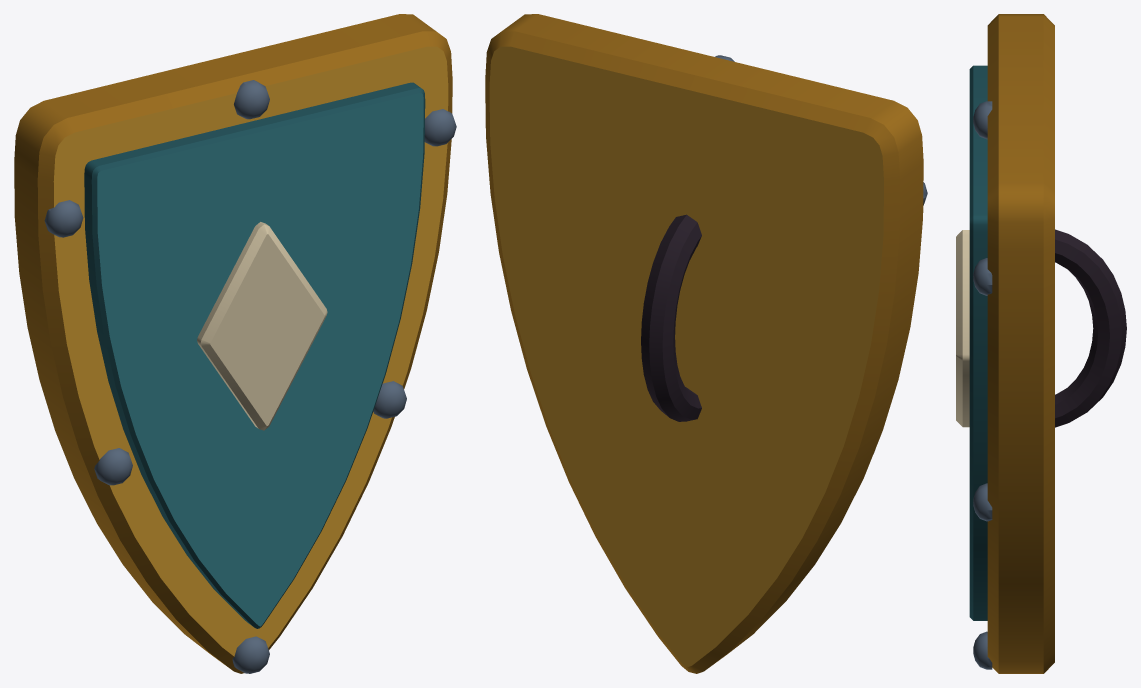
File: HeaterShield_21.glb
The picture shows the model from 3 angles, left to right: view 1: azimuth 30°, elevation 25°; view 2: azimuth 150°, elevation 25°; view 3: azimuth 270°, elevation 25°; orthographic projection. The views are drawn at different scales.
Parts seen in each view (by area): view 1: HeaterShield_21; view 2: HeaterShield_21; view 3: HeaterShield_21.
Boxes of the visible parts, bbox=[...] form: HeaterShield_21: bbox=[14, 14, 456, 673]; HeaterShield_21: bbox=[485, 14, 927, 673]; HeaterShield_21: bbox=[956, 14, 1126, 673].
Bounding box in the file's own units: 2.04 × 2.81 × 0.76.
